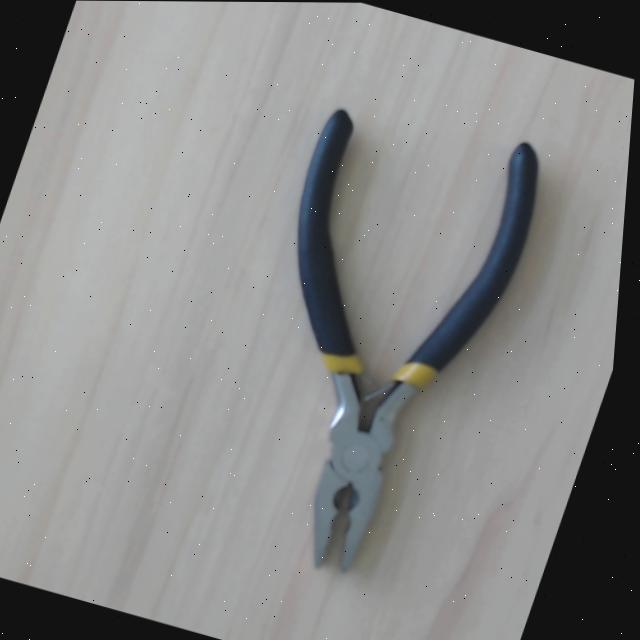Tang-Jepit-Hitam: (236, 105, 543, 593)
